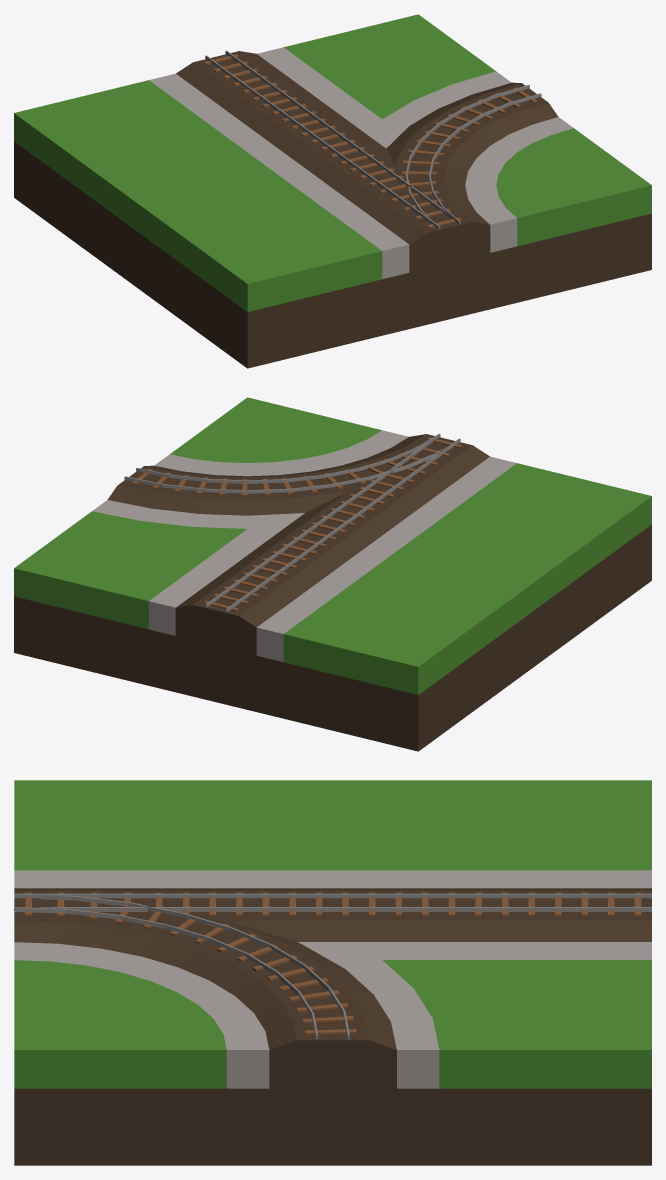
Rendered from tiles-tile-rail-y.glb.
The picture shows the model from 3 angles, top to bottom: view 1: azimuth 30°, elevation 25°; view 2: azimuth 150°, elevation 25°; view 3: azimuth 270°, elevation 25°; orthographic projection. The views are drawn at different scales.
Visible parts, largest first — view 1: tile-rail-y; view 2: tile-rail-y; view 3: tile-rail-y.
Part boxes in pixels (left/top/right/bottom): tile-rail-y: left=14, top=14, right=651, bottom=368; tile-rail-y: left=14, top=397, right=651, bottom=751; tile-rail-y: left=14, top=780, right=651, bottom=1165.
Size of the model in its own units: 30 by 6.75 by 30.01.
